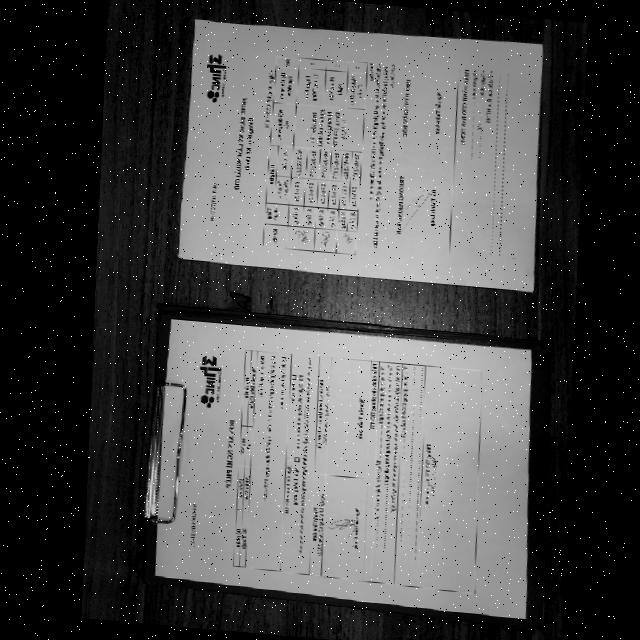document: (155, 319, 531, 619), (179, 20, 542, 291)
